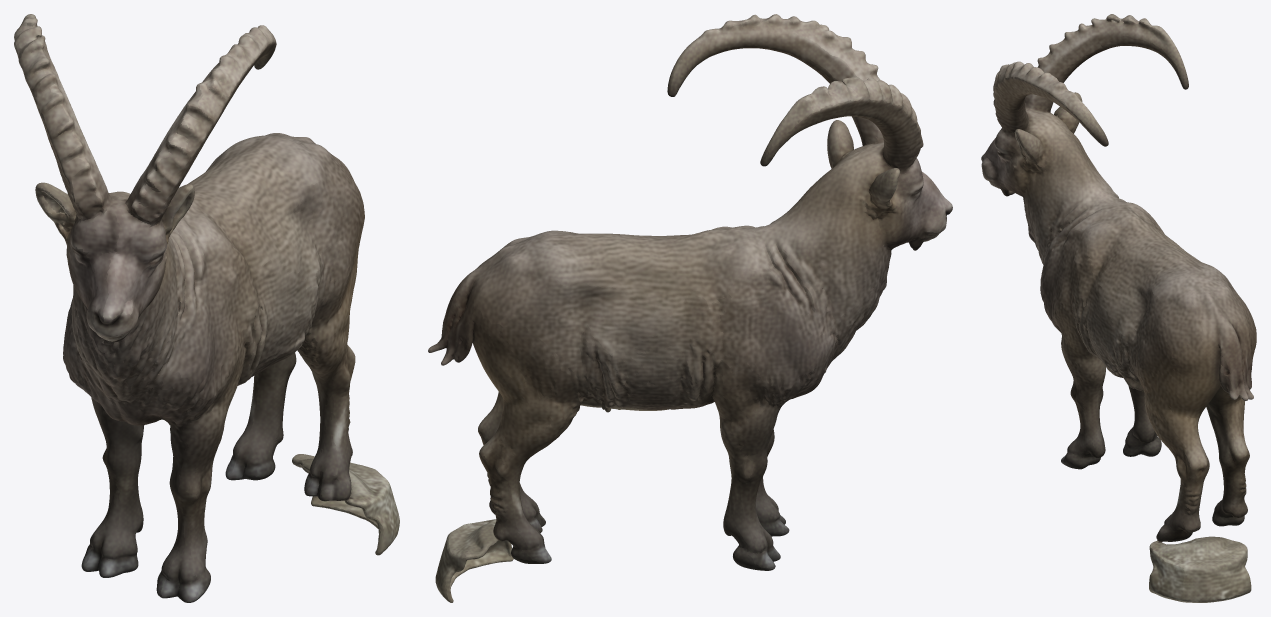
The model's file is task-4902684.glb.
3 views of the same model, side by side, from view 1: azimuth 30°, elevation 25°; view 2: azimuth 150°, elevation 25°; view 3: azimuth 270°, elevation 25° (orthographic). The views are drawn at different scales.
Parts seen in each view (by area): view 1: world; view 2: world; view 3: world.
Boxes of the visible parts, <box> form: world: <box>14,14,399,602</box>; world: <box>428,14,952,602</box>; world: <box>981,14,1256,602</box>.
Bounding box in the file's own units: 1.4 × 1.92 × 1.06.
1 material, 1 textured.
